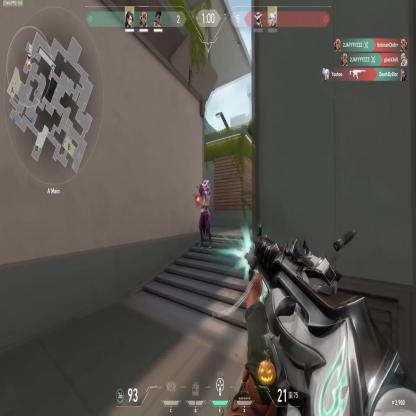enemy: (198, 178, 212, 249)
enemy_head: (203, 180, 208, 189)
